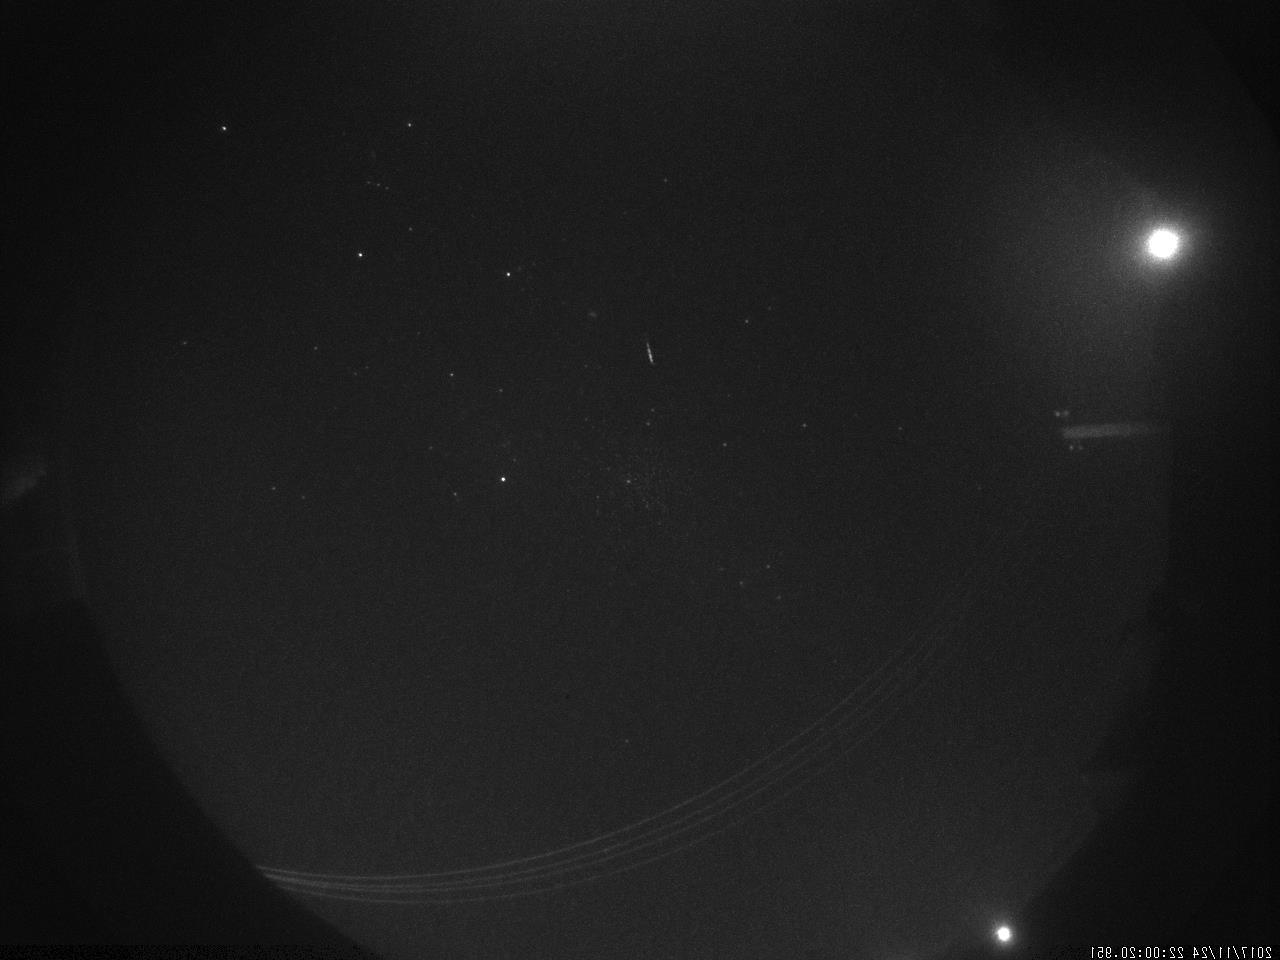meteor: (606, 323, 683, 372)
